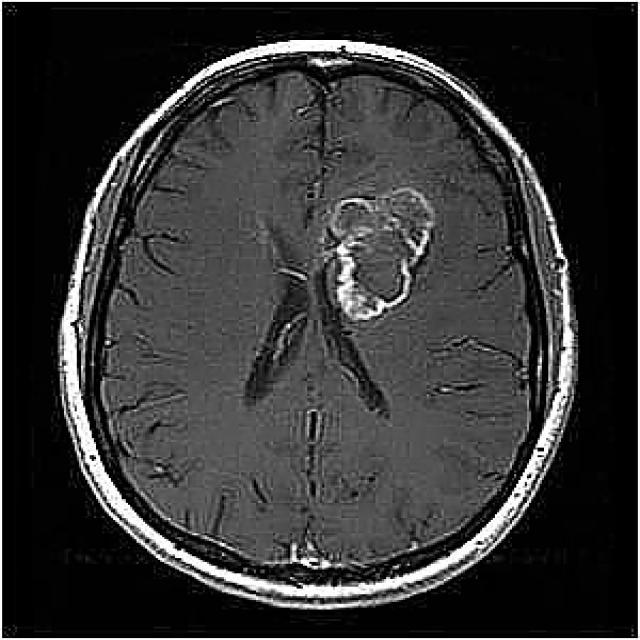Tumor-Cell: (304, 166, 459, 330)
